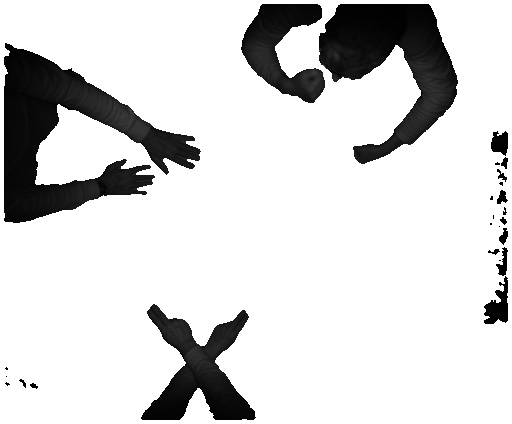fist: (291, 69, 329, 103), (352, 142, 386, 167)
hand: (151, 128, 203, 180), (144, 304, 195, 354), (208, 304, 255, 357), (104, 160, 156, 199)
